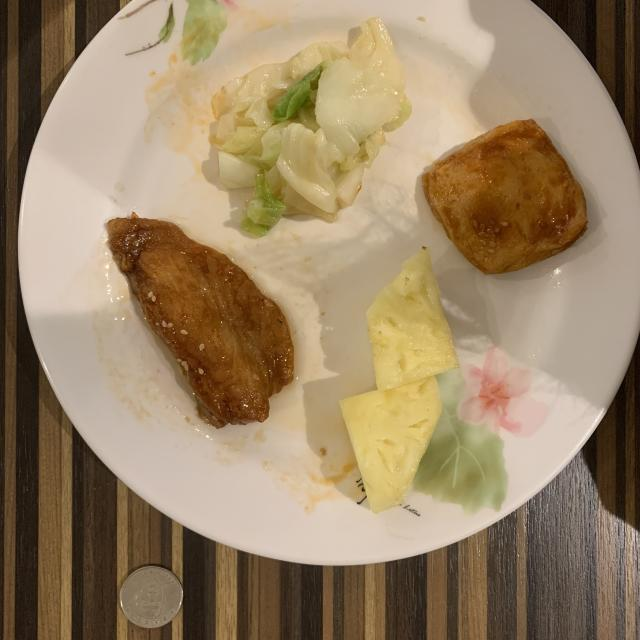Kabayaki sea bream fillet: (108, 214, 294, 428)
cabbage: (210, 18, 411, 235)
coin: (120, 566, 182, 629)
creamy tofu: (422, 119, 588, 274)
pineapple: (340, 248, 459, 514)
